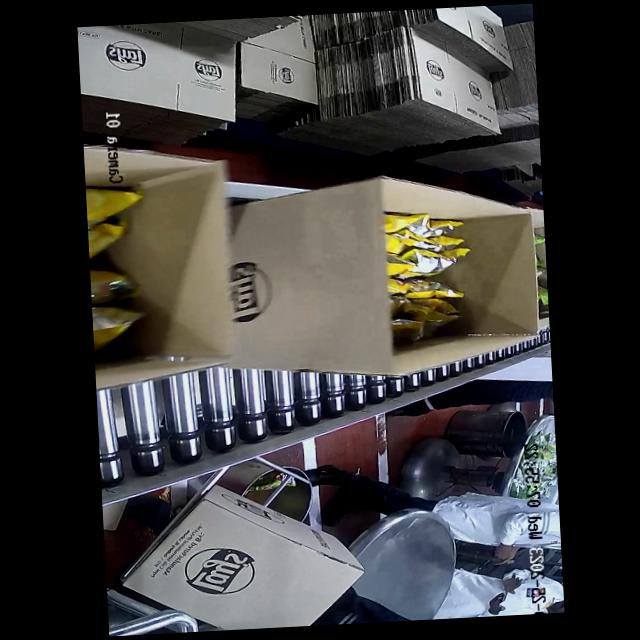salted: (84, 168, 171, 355), (376, 210, 482, 342)
